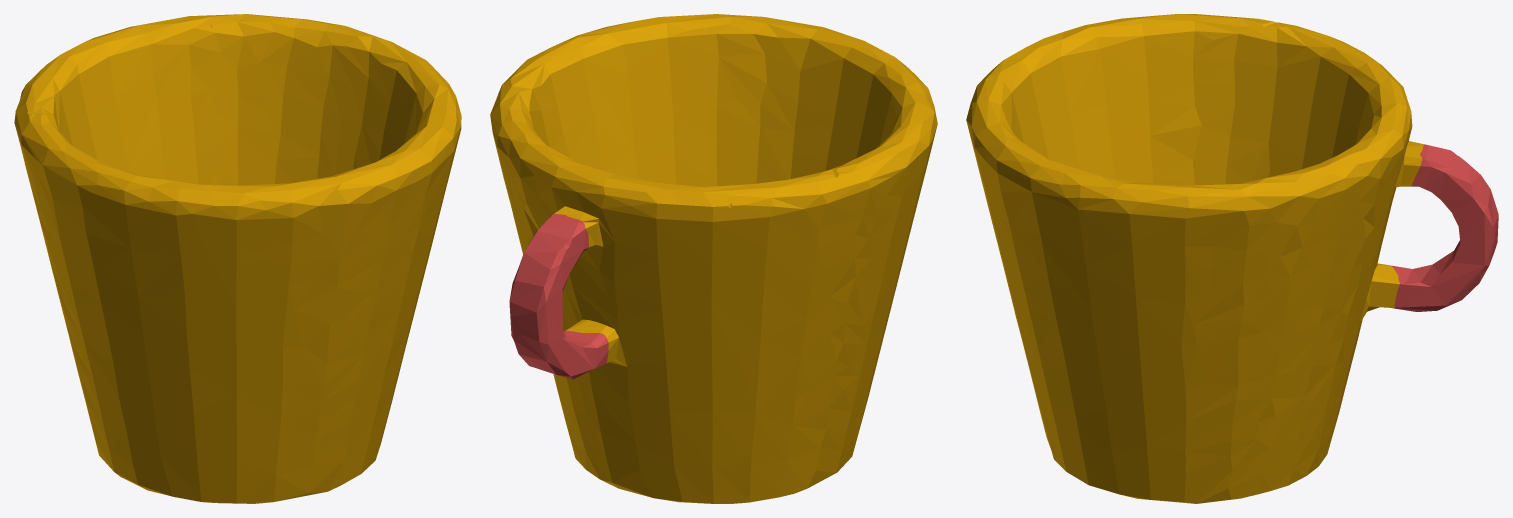
File: fractured_9_2pcs.glb
The picture shows the model from 3 angles, left to right: view 1: azimuth 30°, elevation 25°; view 2: azimuth 150°, elevation 25°; view 3: azimuth 270°, elevation 25°; orthographic projection.
Visible parts, largest first — view 1: piece_0.obj; view 2: piece_0.obj, piece_1.obj; view 3: piece_0.obj, piece_1.obj.
Boxes of the visible parts, x1,y1,x2,y2 form: piece_0.obj: [14, 14, 461, 503]; piece_0.obj: [490, 14, 937, 503]; piece_1.obj: [509, 213, 608, 379]; piece_0.obj: [966, 14, 1423, 503]; piece_1.obj: [1392, 144, 1498, 311].
Size of the model in its own units: 0.8382 by 0.7127 by 1.
